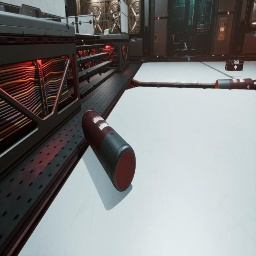0: (104, 28, 113, 34)
EmergencyPhone ,: (154, 32, 158, 42)
FirstAidBox ,: (225, 57, 244, 71)
NitrogenTank ,: (82, 110, 136, 192), (215, 78, 256, 91)
SafetySwitchPanel ,: (216, 17, 227, 40)
